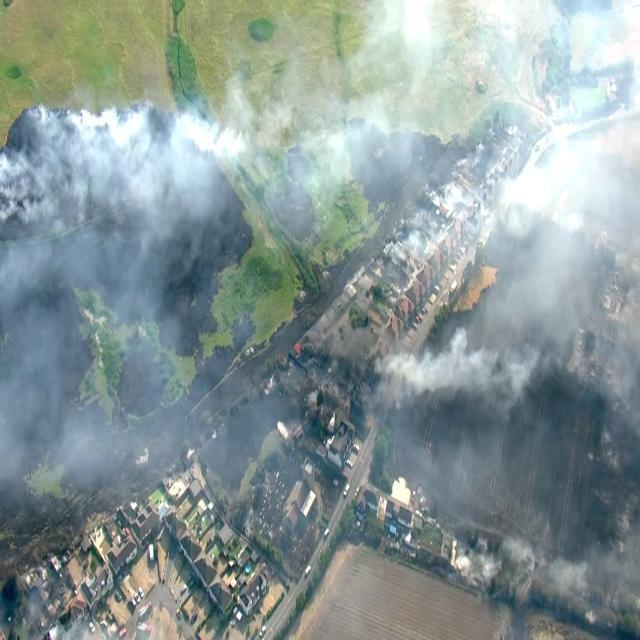Smoke: (395, 345, 480, 395)
